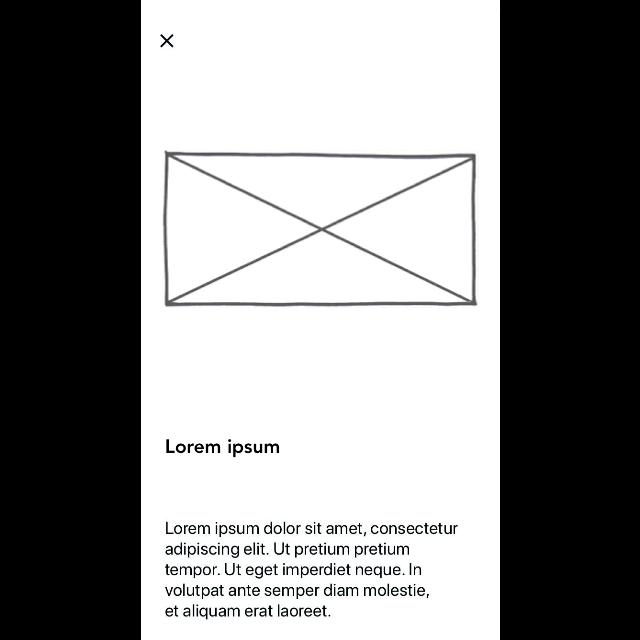icon: (159, 34, 173, 48)
image: (162, 151, 476, 307)
text: (164, 522, 458, 620), (166, 438, 280, 458)
